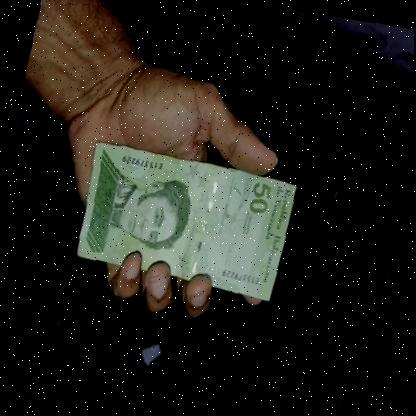fifty-front-vef: (66, 135, 302, 309)
